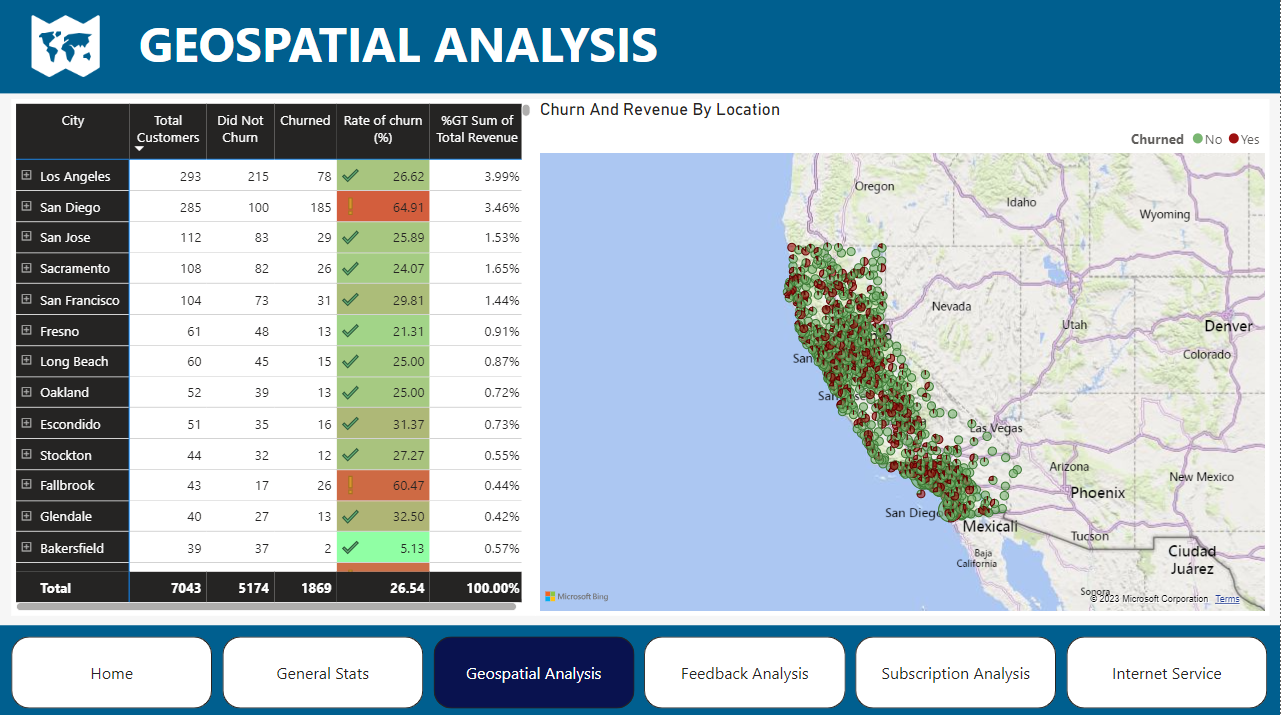

The dashboard page shown, as its layout file describes it:
{"tool":"powerbi","page":{"name":"Geospatial Analysis","canvas":[1280,720],"ordinal":2},"visuals":[{"type":"shape","box":[0,0,1279.9,720],"z":0},{"type":"shape","box":[0,625.9,1279.9,94.1],"z":1000},{"type":"shape","box":[0,0,1279.9,94.1],"z":2000},{"type":"map","title":"Churn And Revenue By Location","fields":{"Y":["Avg(telecom_customer_churn_preprocessed_1.Latitude)"],"X":["Avg(telecom_customer_churn_preprocessed_1.Longitude)"],"Category":["telecom_customer_churn_preprocessed_1.City","telecom_customer_churn_preprocessed_1.Zip Code"],"Series":["telecom_customer_churn_preprocessed_1.Churned"],"Size":["Sum(telecom_customer_churn_preprocessed_1.Total Revenue)"]},"box":[535.4,100.2,734.7,517.1],"z":3000},{"type":"pivotTable","fields":{"Rows":["telecom_customer_churn_preprocessed_1.City","telecom_customer_churn_preprocessed_1.Zip Code"],"Values":["CountNonNull(telecom_customer_churn_preprocessed_1.Churned)","telecom_customer_churn_preprocessed_1.Churn_No","telecom_customer_churn_preprocessed_1.Churn_Yes","telecom_customer_churn_preprocessed_1.Rate_of_churn","Sum(telecom_customer_churn_preprocessed_1.Total Revenue)"]},"box":[11,100.2,524.4,517.1],"z":4000},{"type":"pageNavigator","box":[11,636.9,1256.6,72.1],"z":5000},{"type":"textbox","box":[133.2,6.1,1121,81.9],"z":6000},{"type":"image","box":[23.2,0,83.1,94.1],"z":6001}]}

Visuals, with their boxes in screenshot pixels (x1, y1, x2, y2), scaled from the page's 1280x720 canvas onto the 1281x715 screenshot:
shape: [0,0,1280,714]
shape: [0,622,1280,714]
shape: [0,0,1280,93]
"Churn And Revenue By Location" map: [536,100,1271,613]
pivotTable - telecom_customer_churn_preprocessed_1.City x telecom_customer_churn_preprocessed_1.Zip Code: [11,100,536,613]
pageNavigator: [11,632,1269,704]
textbox: [133,6,1255,87]
image: [23,0,106,93]
